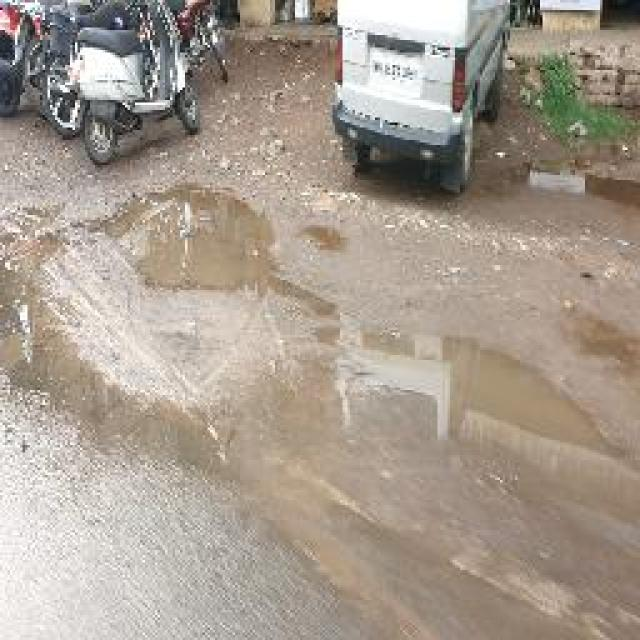stagnation: (0, 187, 621, 634)
